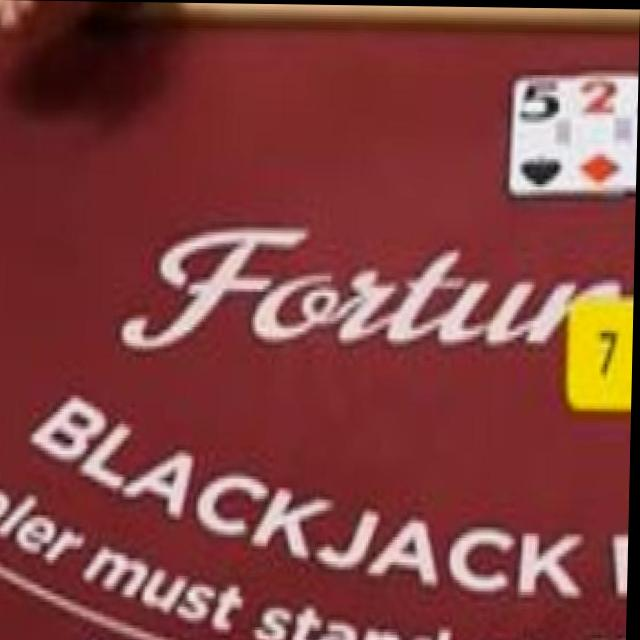Card-2: (574, 73, 638, 186)
Card-5: (511, 69, 572, 194)
